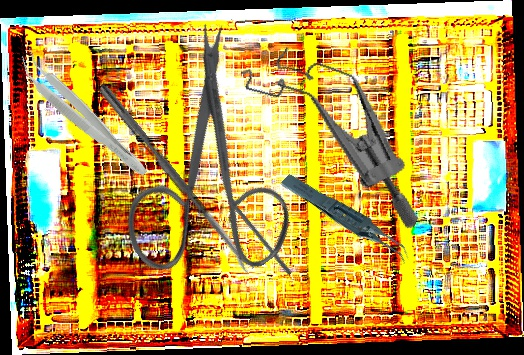Iris Scissors: (50, 14, 353, 322)
Pusher: (215, 182, 294, 276)
Speculum: (210, 33, 459, 231)
Surgical Spoon: (95, 82, 255, 275)
Tissue Forceps: (11, 46, 157, 183), (279, 152, 413, 288)
